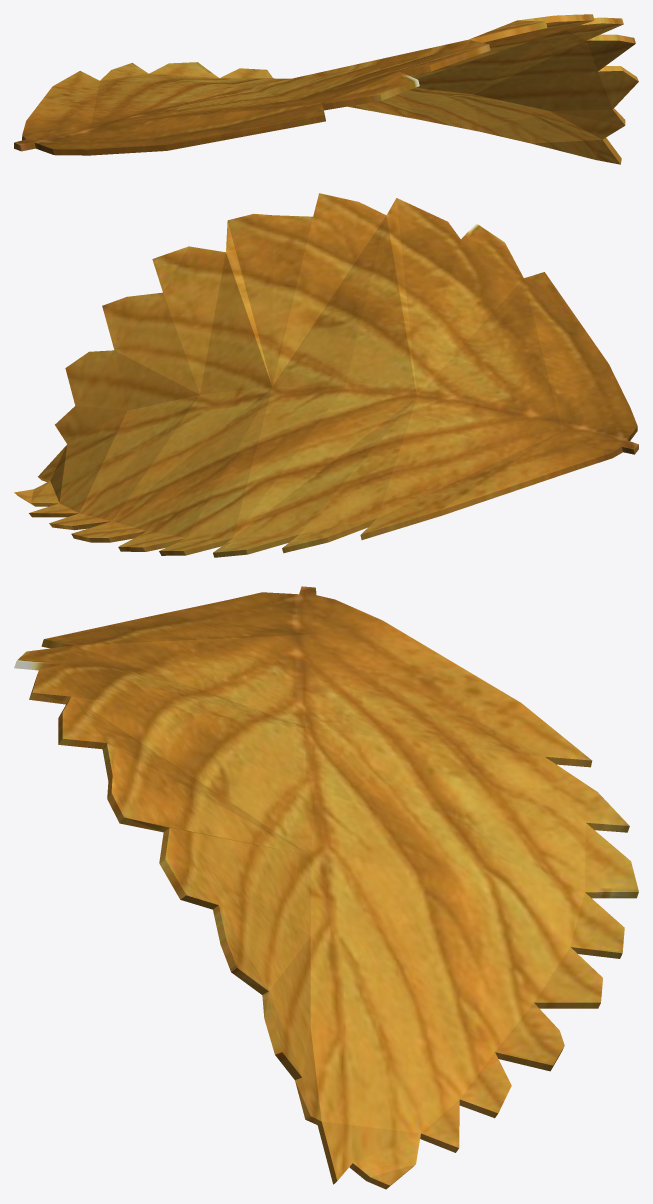
The model's file is leaf5_collision.dae.
The picture shows the model from 3 angles, top to bottom: view 1: azimuth 30°, elevation 25°; view 2: azimuth 150°, elevation 25°; view 3: azimuth 270°, elevation 25°; orthographic projection. The views are drawn at different scales.
Parts seen in each view (by area): view 1: Plane; view 2: Plane; view 3: Plane.
Boxes of the visible parts, x1,y1,x2,y2 form: Plane: (14, 14, 638, 164); Plane: (14, 193, 638, 557); Plane: (14, 586, 638, 1189).
Bounding box in the file's own units: 0.1375 × 0.0957 × 0.0575.
1 material, 1 textured.
